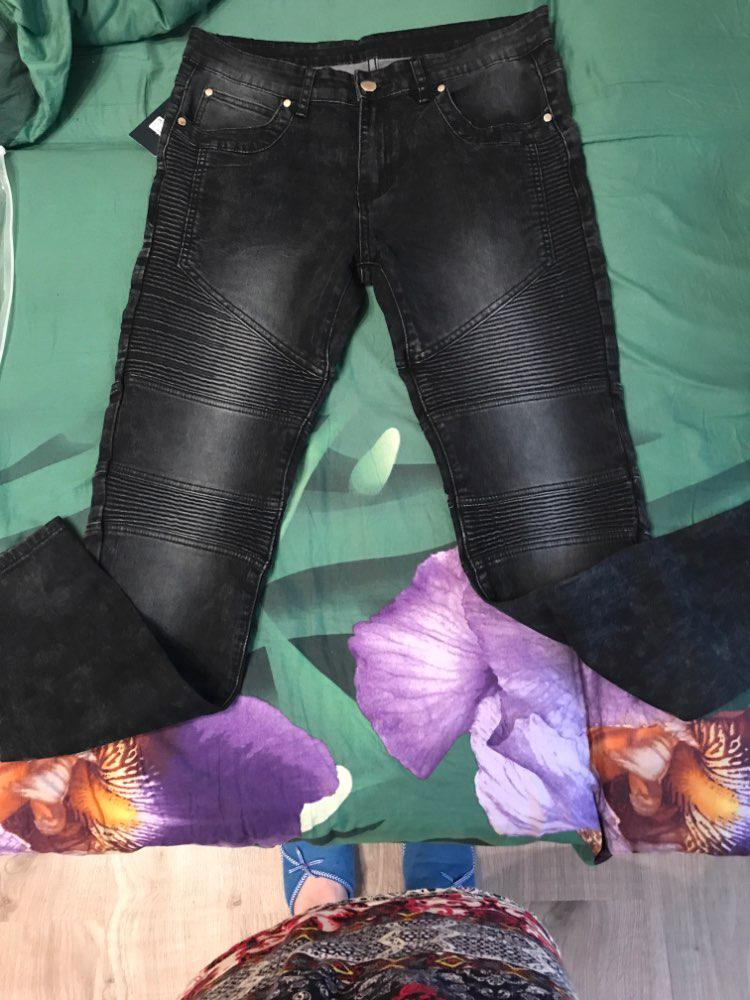jeans: (56, 32, 750, 734)
